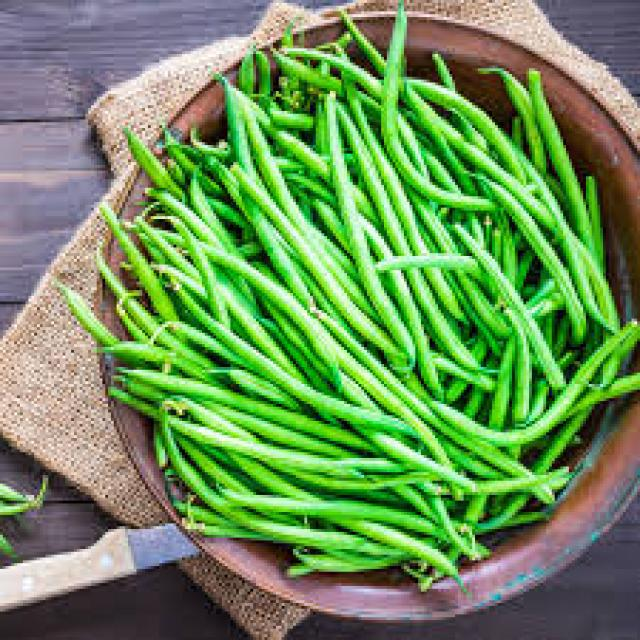organic waste: (60, 3, 637, 580), (77, 219, 381, 549), (259, 179, 555, 455), (256, 31, 521, 310), (125, 125, 353, 384), (401, 80, 612, 324), (353, 333, 543, 492), (469, 293, 637, 472), (336, 0, 460, 202), (256, 466, 449, 586), (375, 444, 569, 563), (469, 168, 583, 350), (524, 66, 598, 270), (478, 63, 546, 174), (583, 162, 606, 273), (0, 475, 40, 509), (0, 475, 40, 501), (0, 535, 17, 560)
